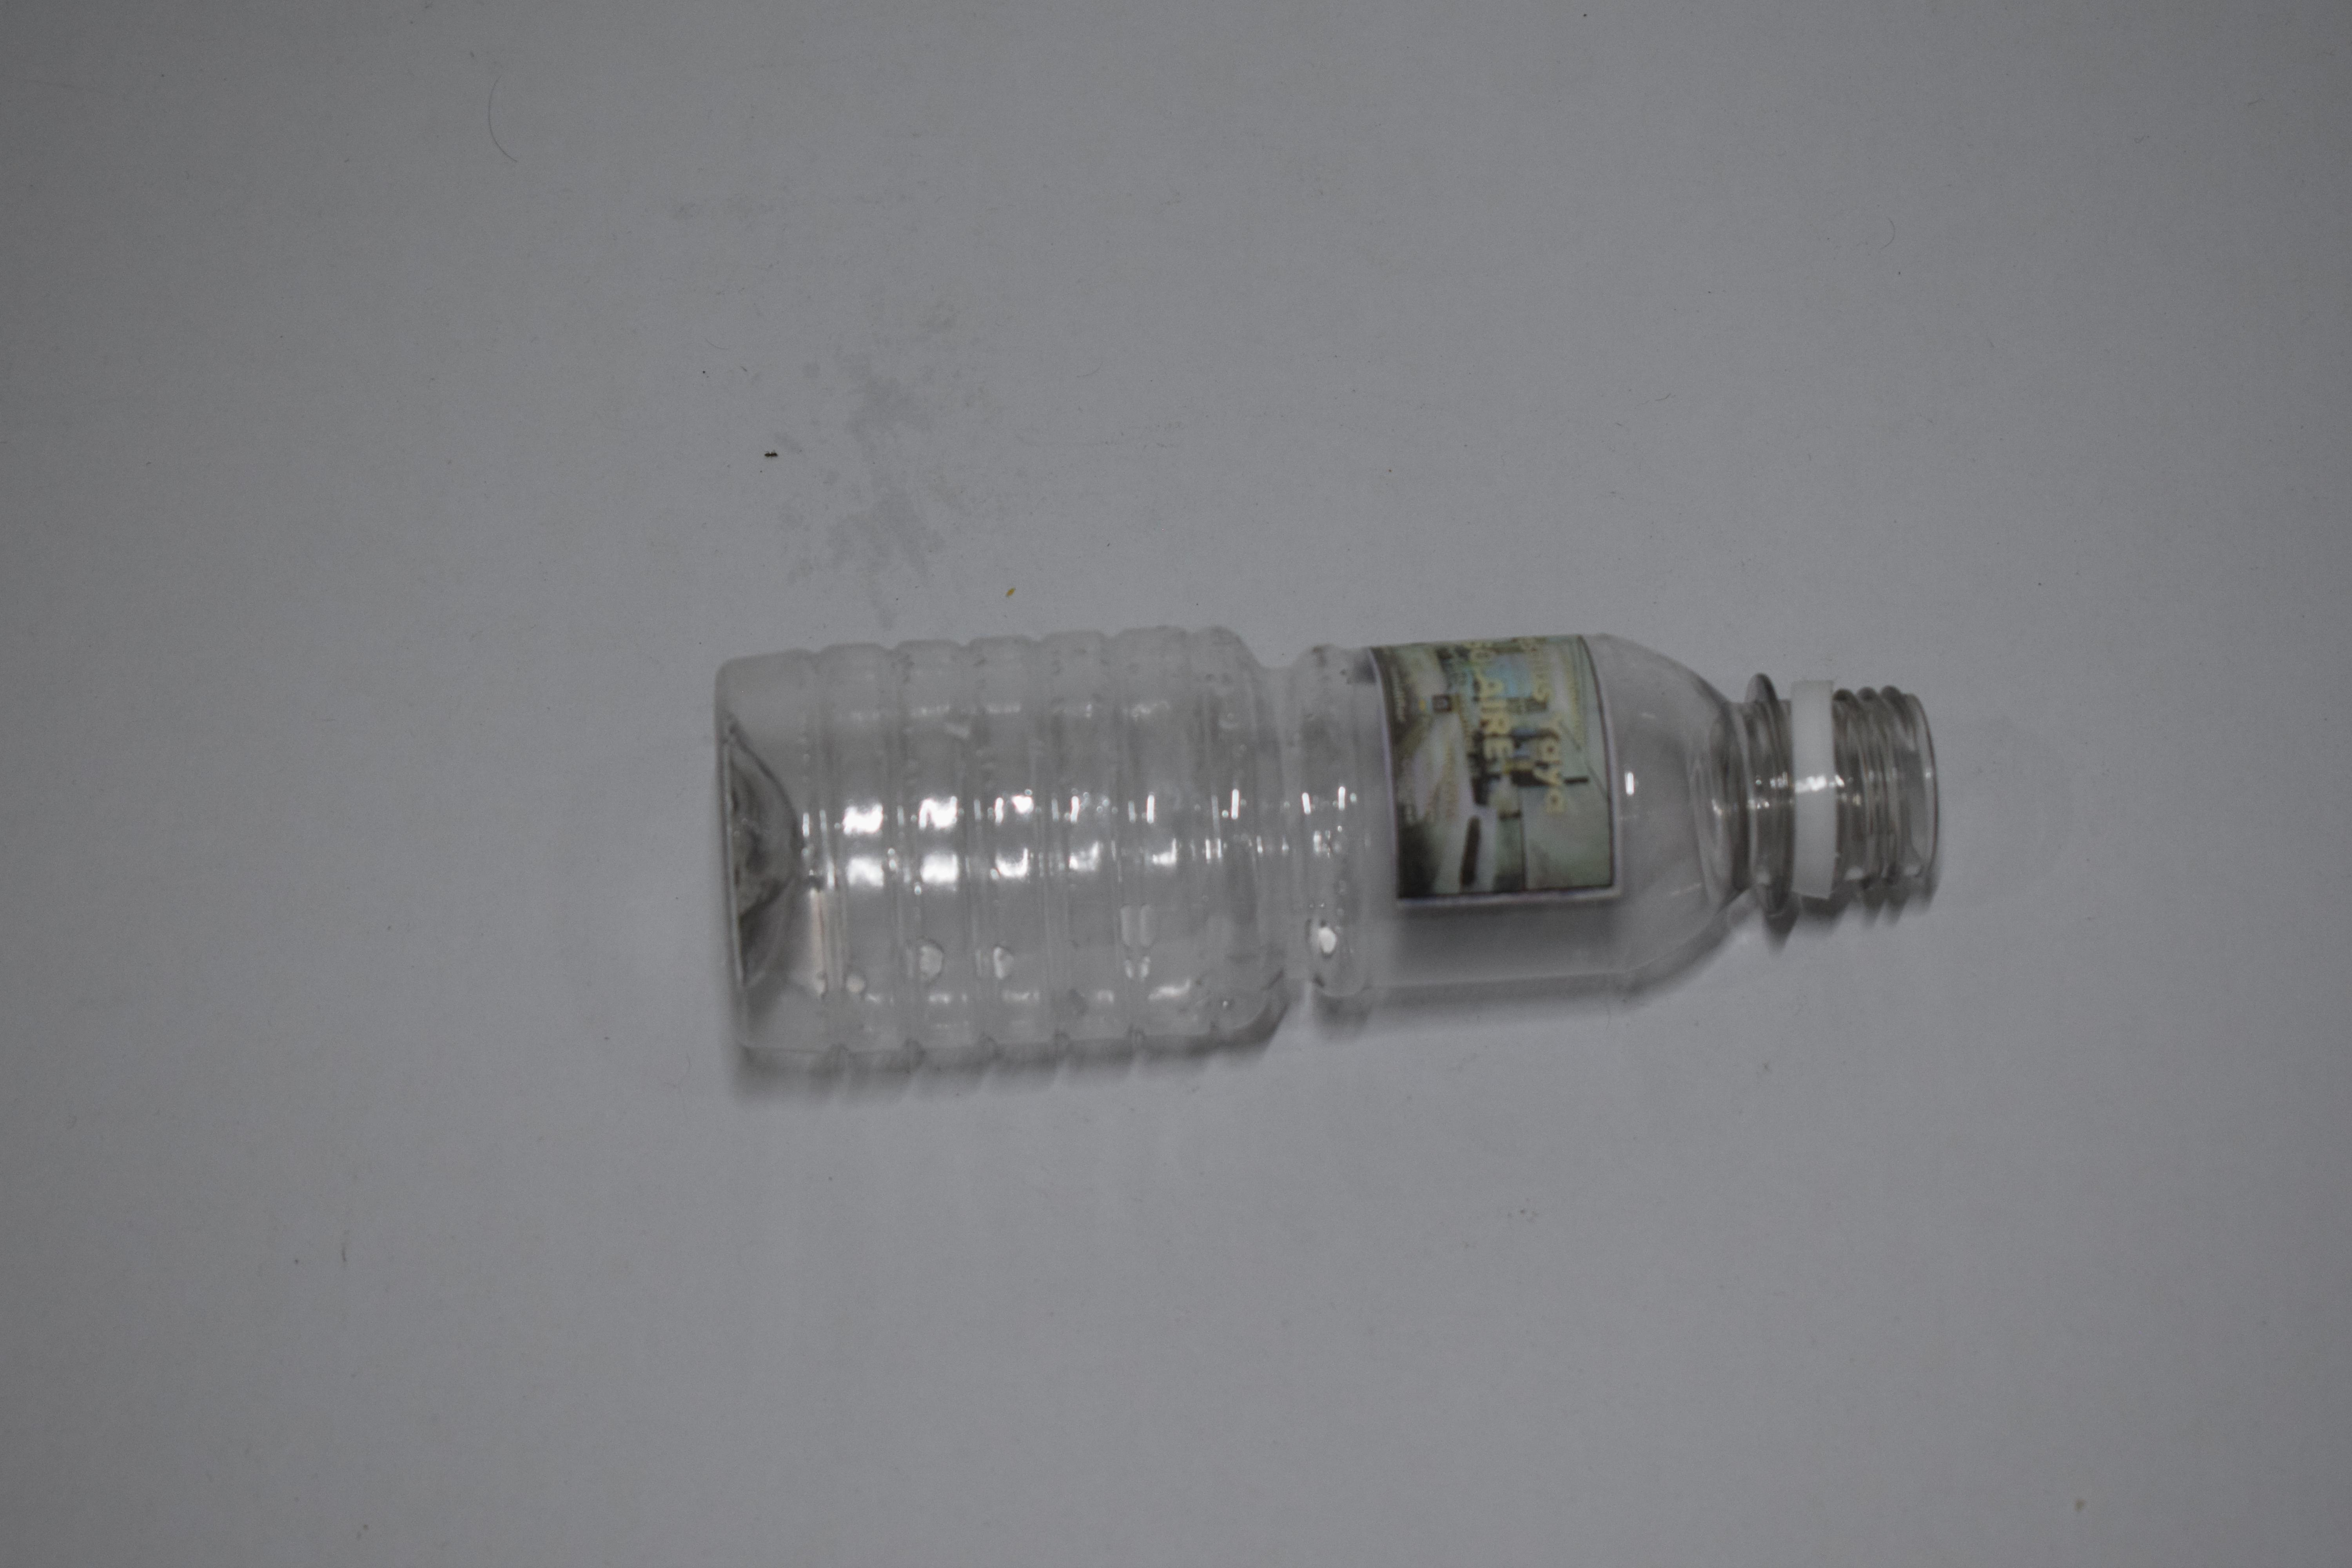bottle: (117, 0, 184, 297)
